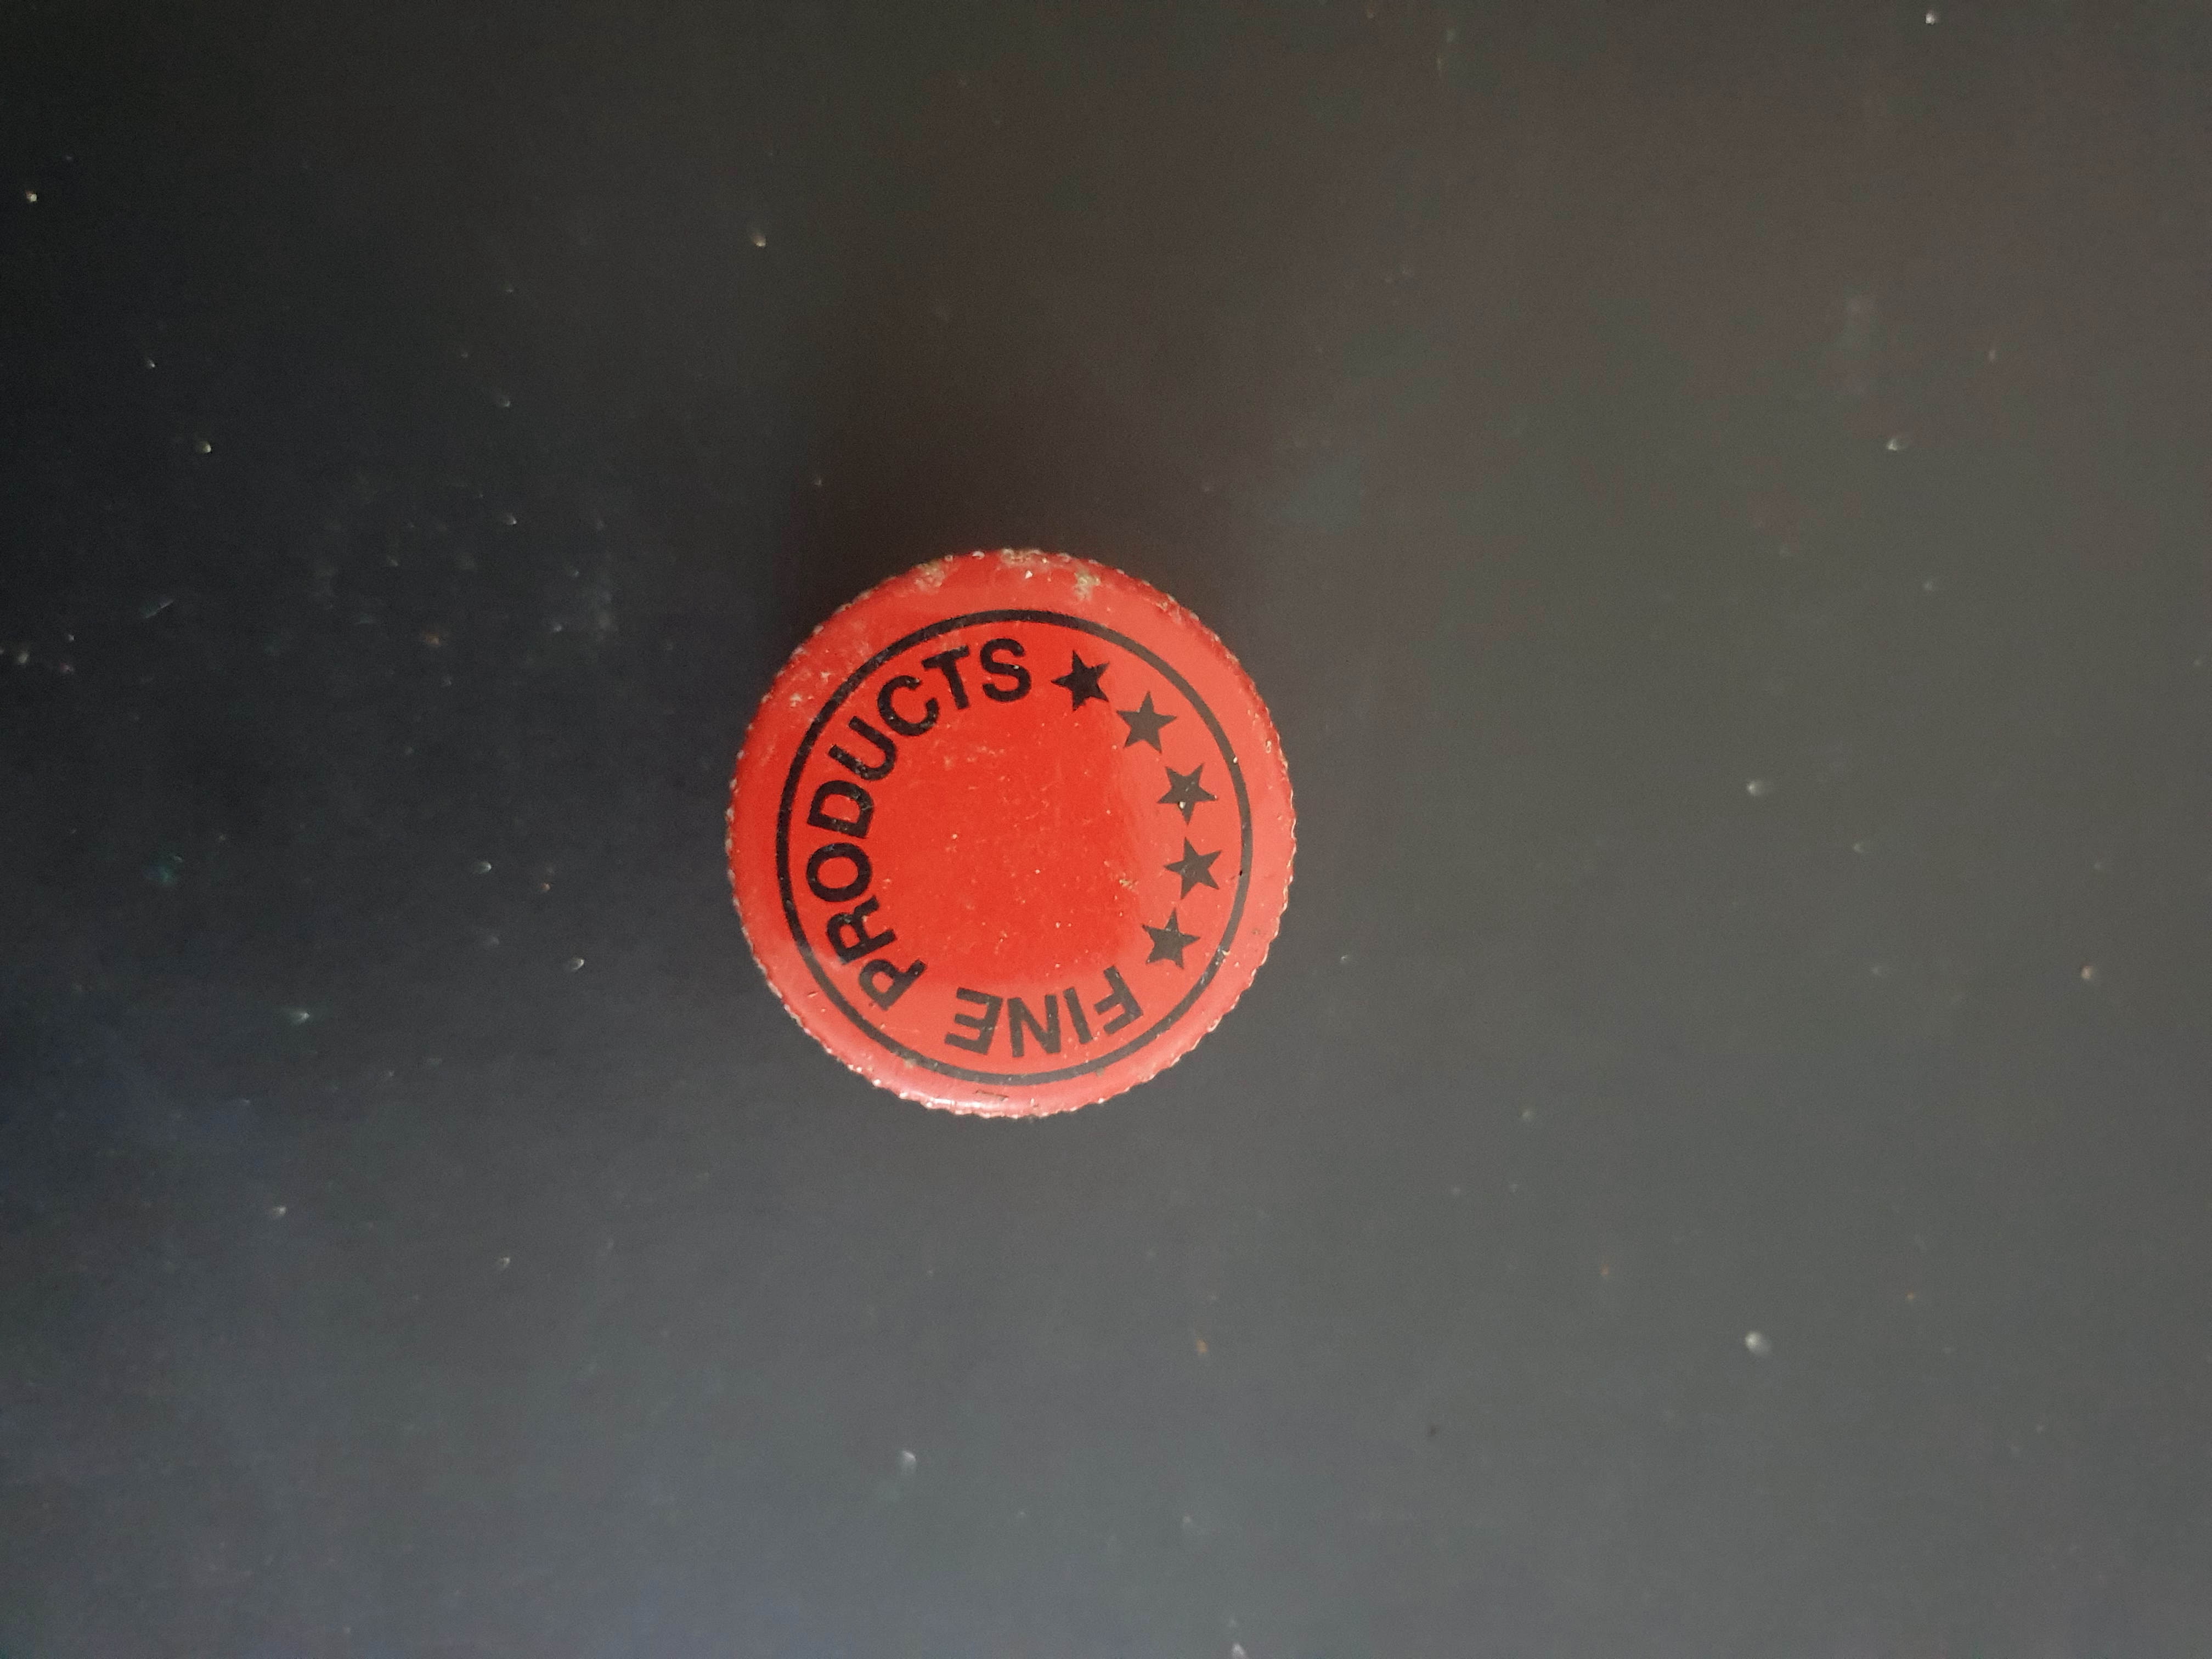metal: (678, 493, 1350, 1171)
